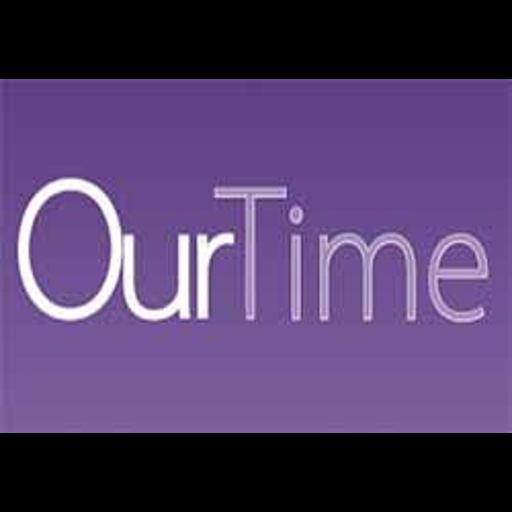OurTime Dating: (0, 79, 512, 433)
